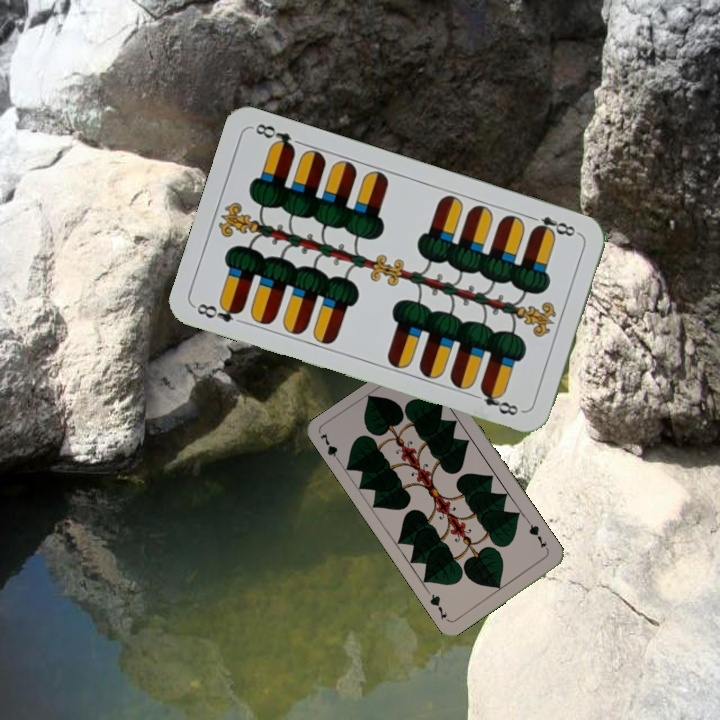E8: (525, 211, 582, 239), (192, 298, 245, 325)
G7: (316, 429, 344, 467), (524, 518, 549, 551)
